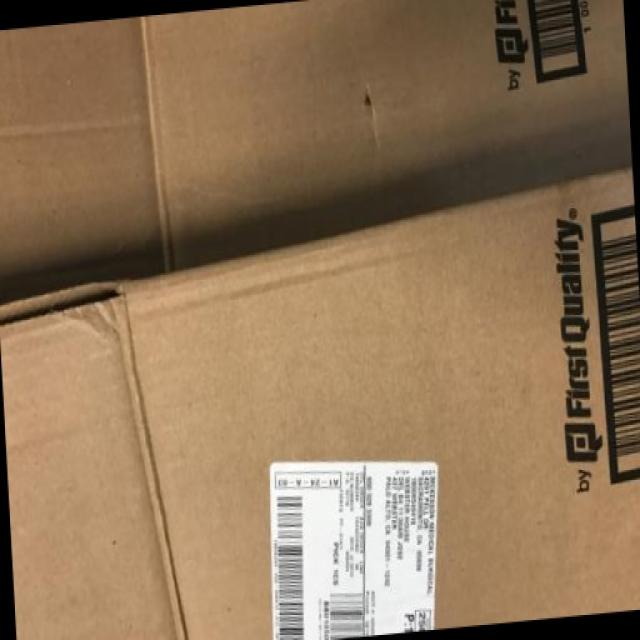carton: (101, 74, 507, 640)
